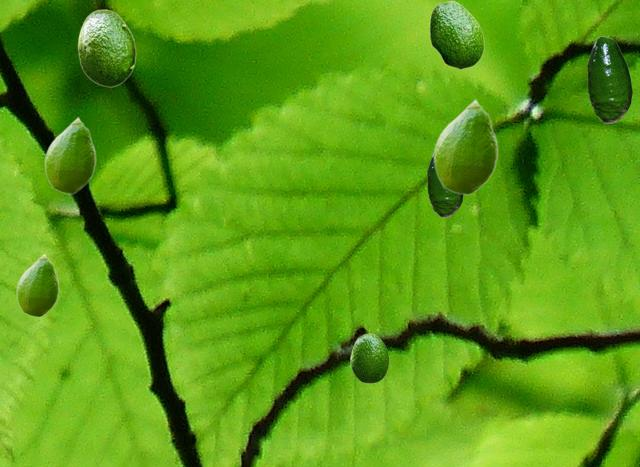avocado: (433, 98, 497, 194), (77, 9, 135, 86), (44, 116, 95, 193), (587, 36, 631, 122), (429, 0, 483, 68), (16, 253, 58, 316), (427, 154, 462, 216), (350, 333, 388, 382)
